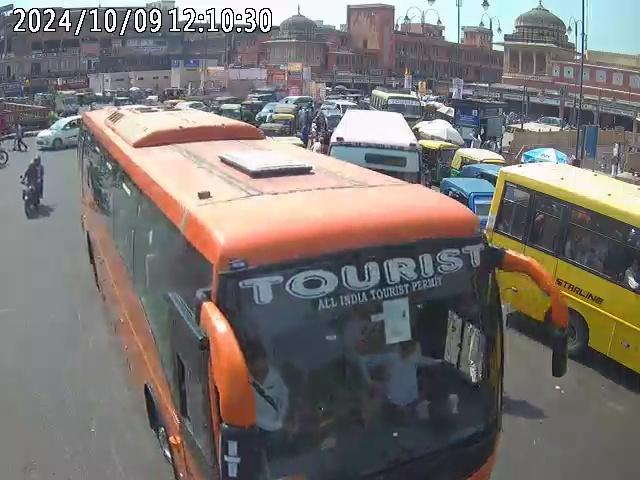auto: (260, 101, 298, 140)
bus: (62, 99, 522, 480), (483, 159, 638, 415), (370, 87, 422, 122)
car: (35, 115, 83, 149)
motorbike-rider: (18, 154, 46, 217)
person: (12, 122, 27, 152)
